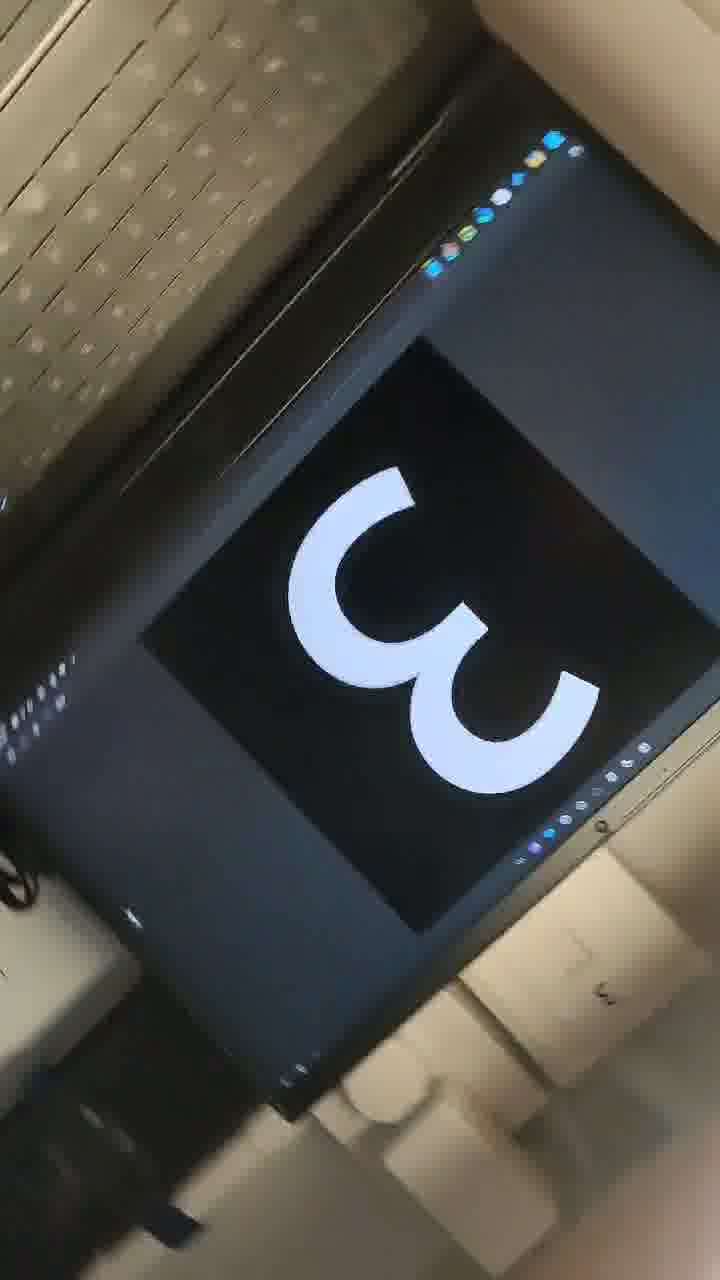three: (262, 433, 596, 821)
